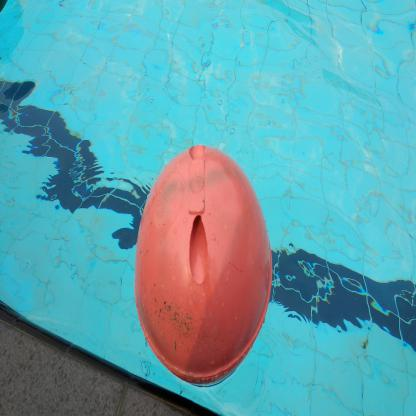red_buoy: (128, 126, 282, 398)
